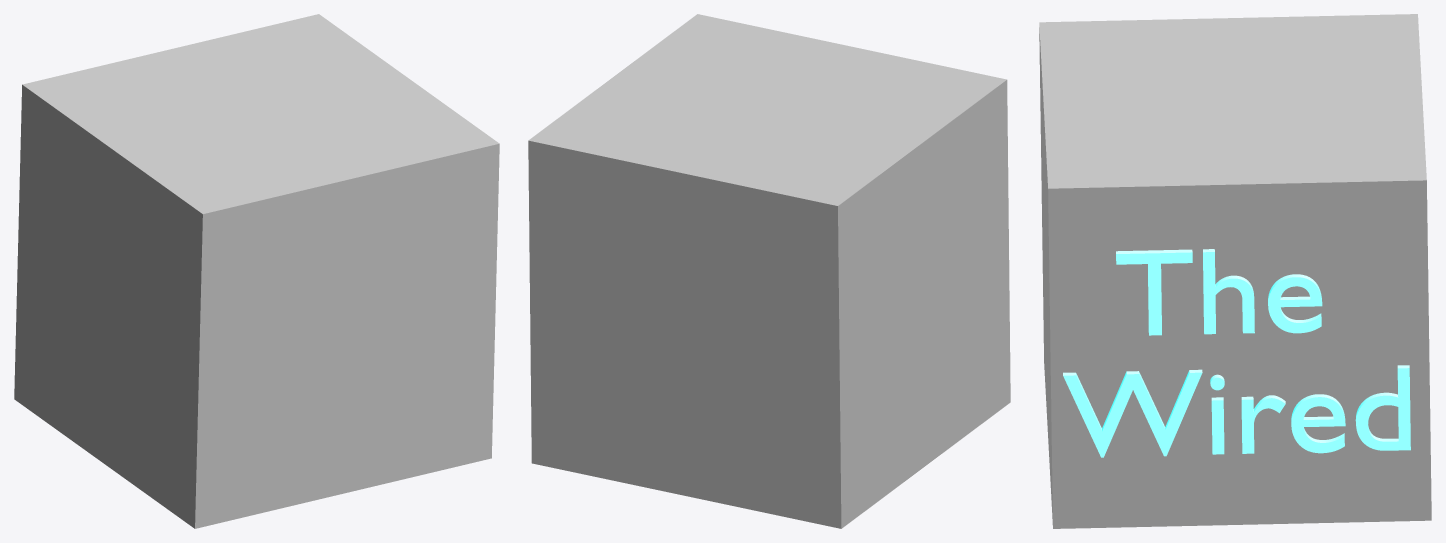
The model's file is TheWiredGlassBox.fbx.
3 renders of one model, left to right at view 1: azimuth 30°, elevation 25°; view 2: azimuth 150°, elevation 25°; view 3: azimuth 270°, elevation 25°, orthographic. The views are drawn at different scales.
Visible parts, largest first — view 1: Cube; view 2: Cube; view 3: Cube, Text.
Boxes of the visible parts, x1,y1,x2,y2 form: Cube: (14, 14, 499, 528); Cube: (528, 14, 1010, 528); Cube: (1039, 14, 1431, 528); Text: (1063, 249, 1410, 457).
Bounding box in the file's own units: 210 × 206 × 207.
